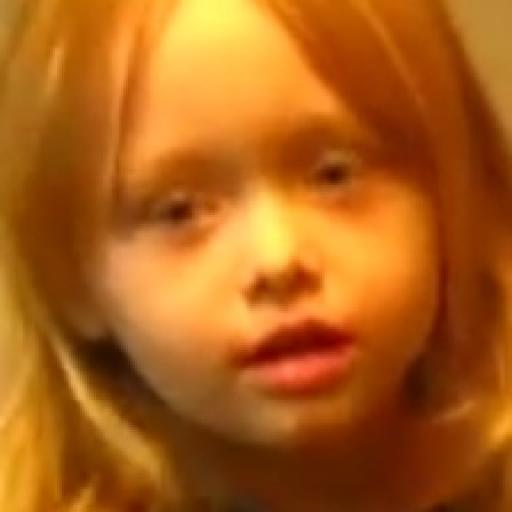Autism: (35, 0, 491, 474)
